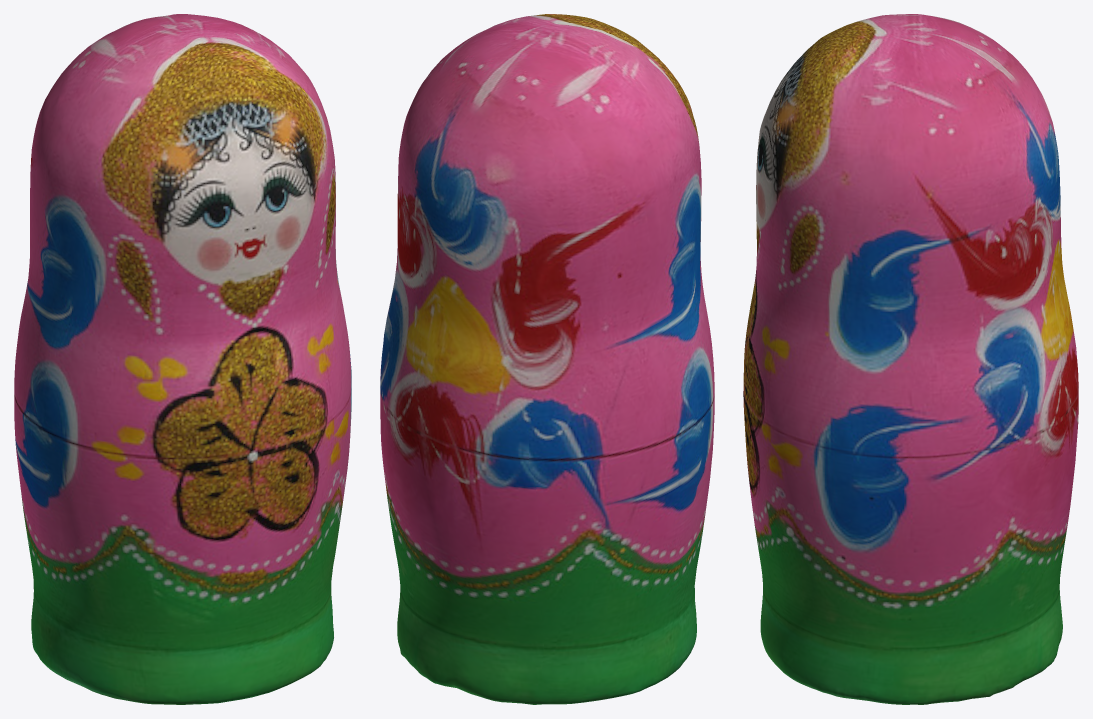
File: table_babushka.glb
The picture shows the model from 3 angles, left to right: view 1: azimuth 30°, elevation 25°; view 2: azimuth 150°, elevation 25°; view 3: azimuth 270°, elevation 25°; orthographic projection.
Parts seen in each view (by area): view 1: table_babushka; view 2: table_babushka; view 3: table_babushka.
Part boxes in pixels (x1,y1,x2,y2): table_babushka: (14, 14, 351, 704); table_babushka: (380, 14, 714, 704); table_babushka: (743, 14, 1078, 704).
Size of the model in its own units: 0.077 by 0.155 by 0.0766.
Materials: 1 (1 with a texture image).
